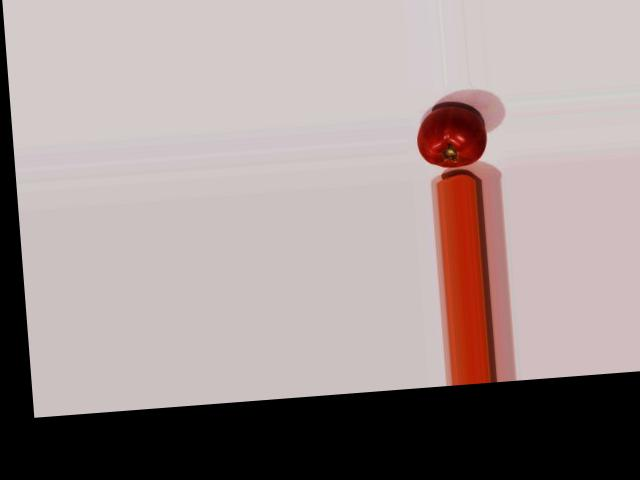tomato: (414, 104, 487, 169)
